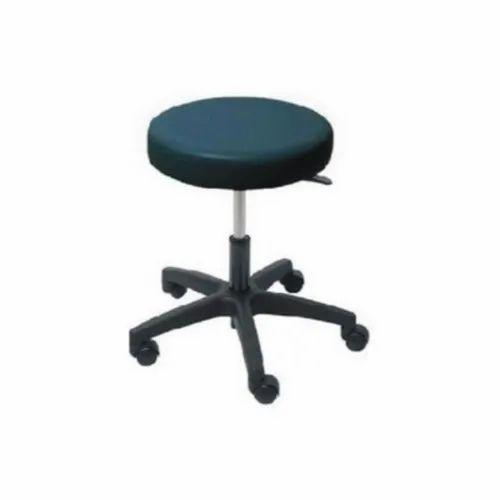stool: (127, 94, 369, 404)
